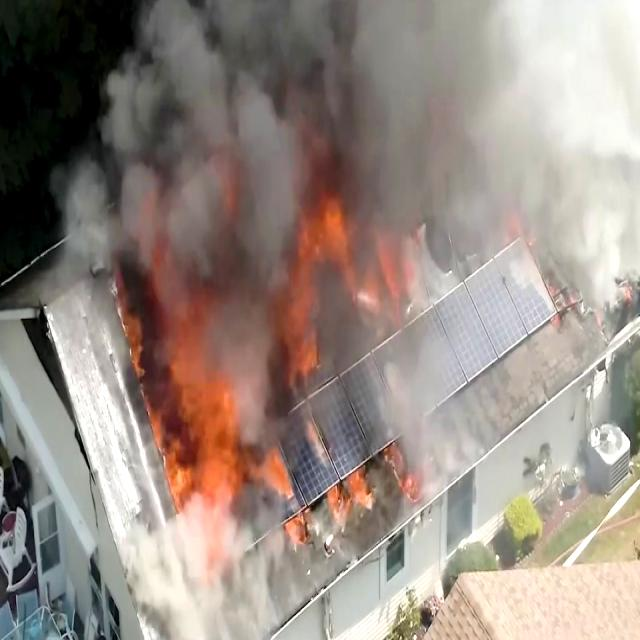fire: (119, 226, 274, 517), (287, 178, 384, 394)
smoke: (290, 0, 640, 124)
